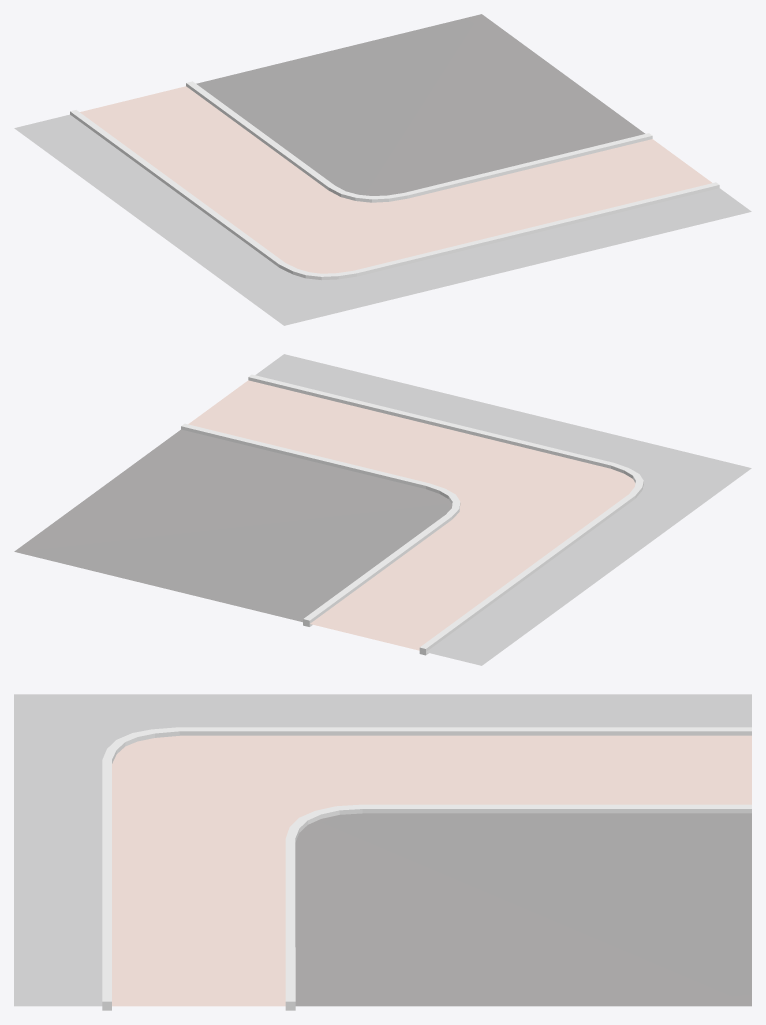
The model's file is building_platform_012.glb.
The picture shows the model from 3 angles, top to bottom: view 1: azimuth 30°, elevation 25°; view 2: azimuth 150°, elevation 25°; view 3: azimuth 270°, elevation 25°; orthographic projection. The views are drawn at different scales.
Parts seen in each view (by area): view 1: building_platform_012; view 2: building_platform_012; view 3: building_platform_012.
Boxes of the visible parts, x1,y1,x2,y2 form: building_platform_012: (14,14,751,325); building_platform_012: (14,354,751,665); building_platform_012: (14,694,751,1010).
Bounding box in the file's own units: 15 × 0.2 × 15.
1 material, 1 textured.
